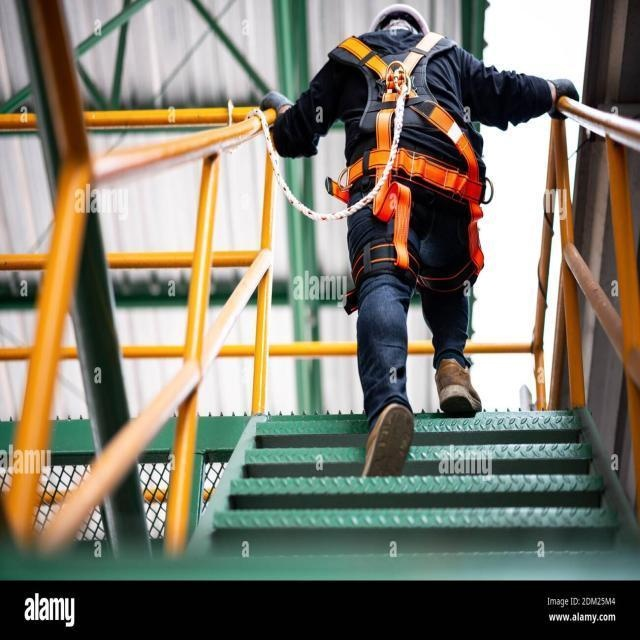Arnes_seguridad: (341, 27, 481, 282)
